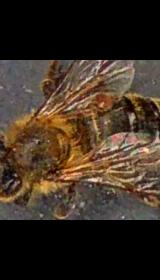varroa_mite: (90, 84, 120, 116)
